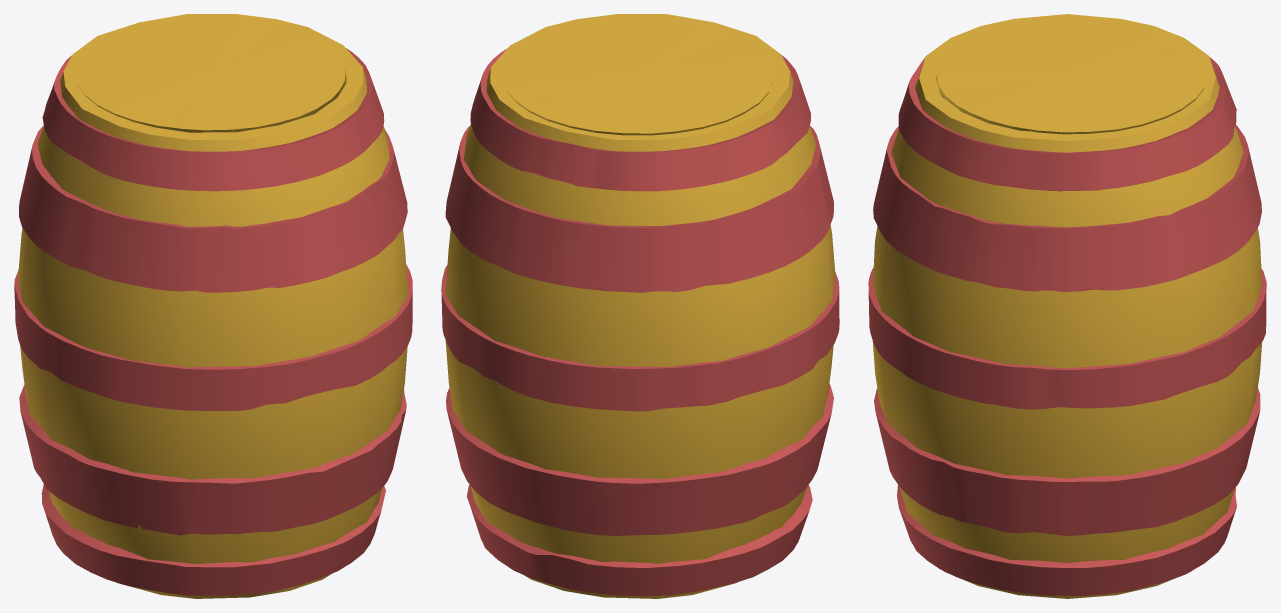
File: barrel_low.fbx
The picture shows the model from 3 angles, left to right: view 1: azimuth 30°, elevation 25°; view 2: azimuth 150°, elevation 25°; view 3: azimuth 270°, elevation 25°; orthographic projection.
Visible parts, largest first — view 1: lid2, banding; view 2: lid2, banding; view 3: lid2, banding.
Boxes of the visible parts, x1,y1,x2,y2 form: lid2: [18, 14, 408, 598]; banding: [14, 48, 412, 595]; lid2: [445, 14, 835, 598]; banding: [441, 49, 839, 596]; lid2: [872, 14, 1262, 598]; banding: [868, 57, 1266, 595].
Size of the model in its own units: 1.25 by 1.6 by 1.25.
